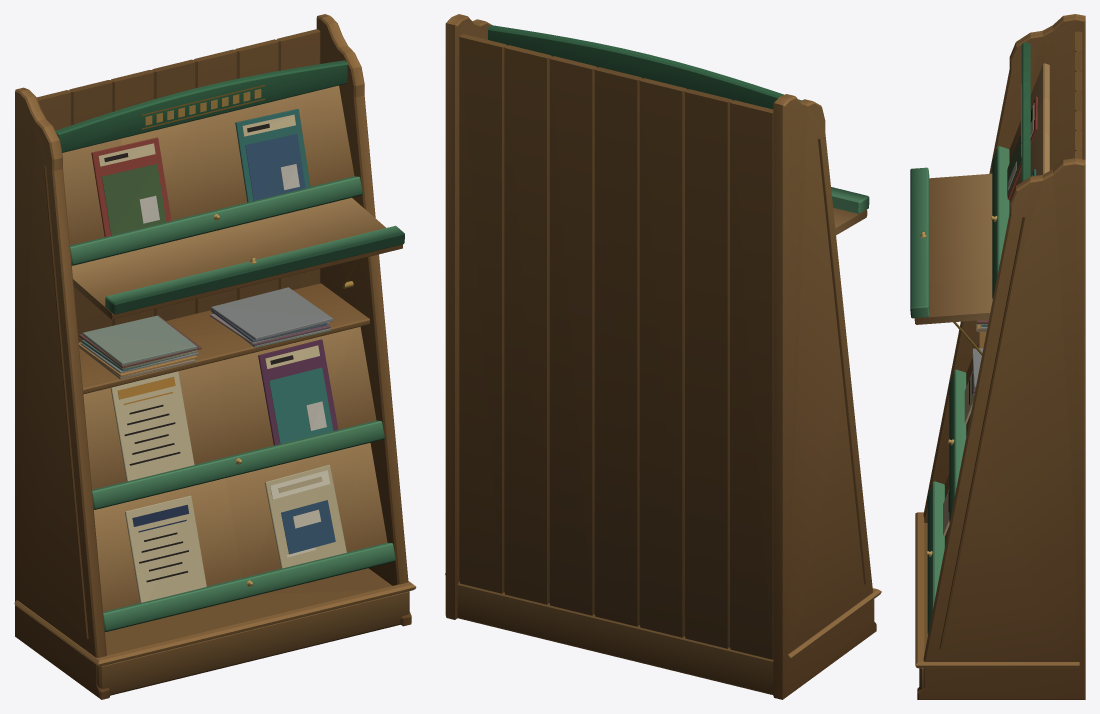
File: periodical-rack.glb
3 views of the same model, side by side, from view 1: azimuth 30°, elevation 25°; view 2: azimuth 150°, elevation 25°; view 3: azimuth 270°, elevation 25° (orthographic). The views are drawn at different scales.
Visible parts, largest first — view 1: periodical_rack; view 2: periodical_rack; view 3: periodical_rack.
Boxes of the visible parts, box(x1,y1,x2,y2) form: periodical_rack: box(14, 14, 416, 699); periodical_rack: box(445, 14, 881, 699); periodical_rack: box(910, 14, 1085, 699).
Size of the model in its own units: 0.876 by 1.45 by 0.4273.
